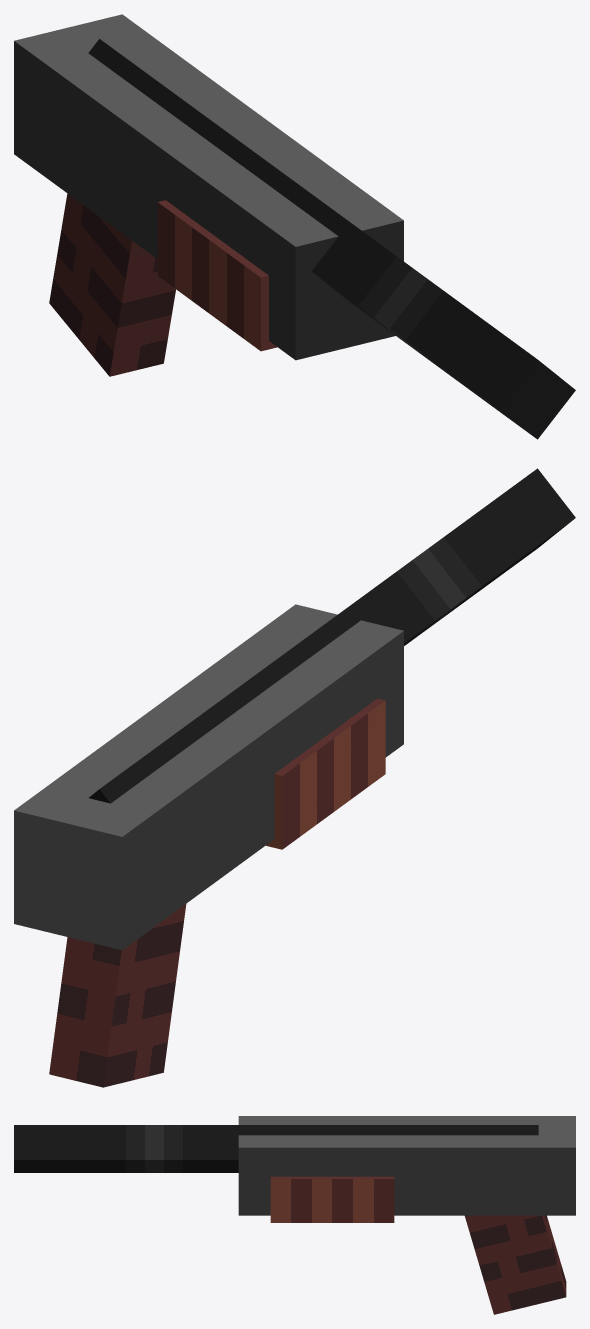
The model's file is wp_pistolA.fbx.
The picture shows the model from 3 angles, top to bottom: view 1: azimuth 30°, elevation 25°; view 2: azimuth 150°, elevation 25°; view 3: azimuth 270°, elevation 25°; orthographic projection. The views are drawn at different scales.
Parts seen in each view (by area): view 1: cube_1, cube_3, cube, cube_2, cube_4; view 2: cube_1, cube, cube_3, cube_2, cube_4; view 3: cube_1, cube_3, cube, cube_2, cube_4.
Boxes of the visible parts, x1,y1,x2,y2 form: cube_1: (14,14,403,360); cube_3: (343,245,575,439); cube: (49,193,175,376); cube_2: (157,200,277,351); cube_4: (88,39,380,322); cube_1: (14,604,403,950); cube: (49,904,186,1087); cube_3: (381,468,575,645); cube_2: (266,698,385,849); cube_4: (89,583,419,803); cube_1: (238,1116,575,1215); cube_3: (14,1125,201,1172); cube: (465,1215,566,1314); cube_2: (270,1176,394,1222); cube_4: (201,1125,538,1172).
Size of the model in its own units: 14.38 by 33.52 by 93.75.
3 materials, 3 textured.
